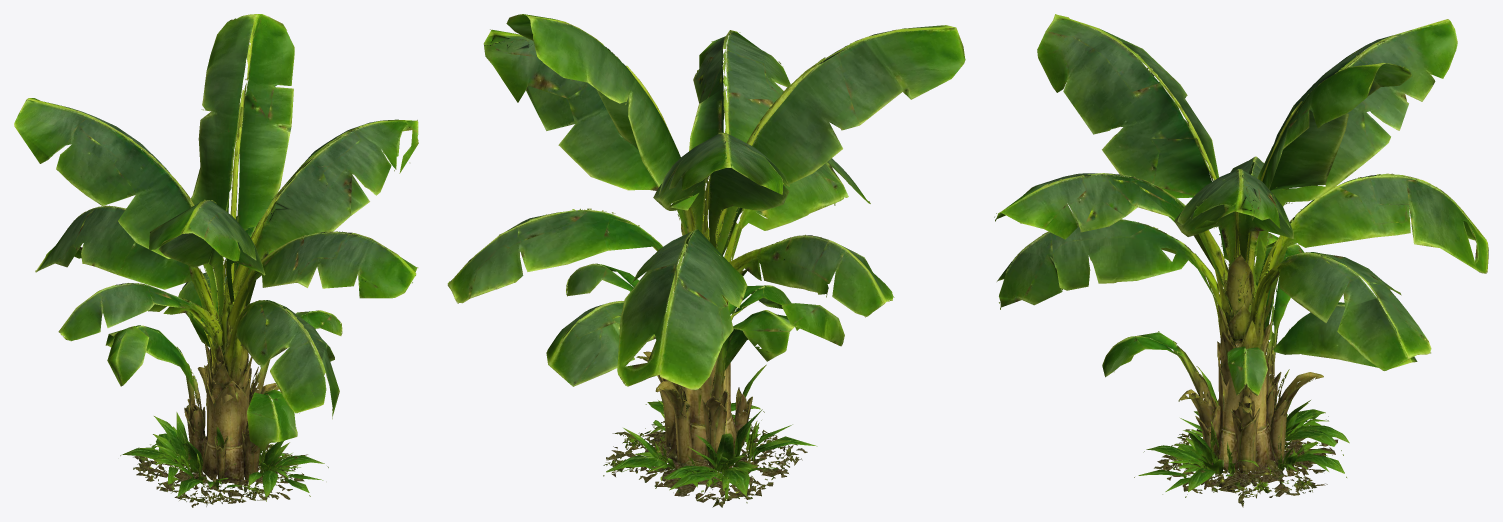
File: banana.glb
3 renders of one model, left to right at view 1: azimuth 30°, elevation 25°; view 2: azimuth 150°, elevation 25°; view 3: azimuth 270°, elevation 25°, orthographic. The views are drawn at different scales.
Parts seen in each view (by area): view 1: geometry_0; view 2: geometry_0; view 3: geometry_0.
Boxes of the visible parts, x1,y1,x2,y2 form: geometry_0: (14, 14, 418, 507); geometry_0: (447, 14, 965, 507); geometry_0: (994, 14, 1488, 507).
Size of the model in its own units: 0.9193 by 0.9981 by 0.9979.
Materials: 1 (1 with a texture image).
